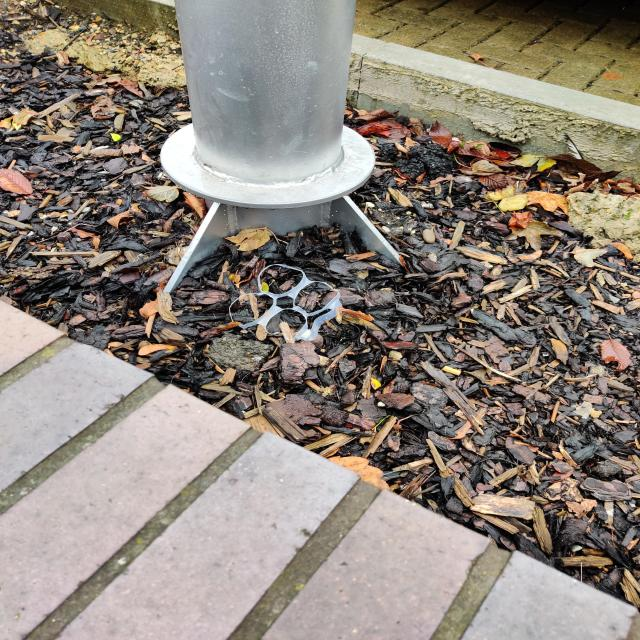litter: (225, 253, 351, 353)
